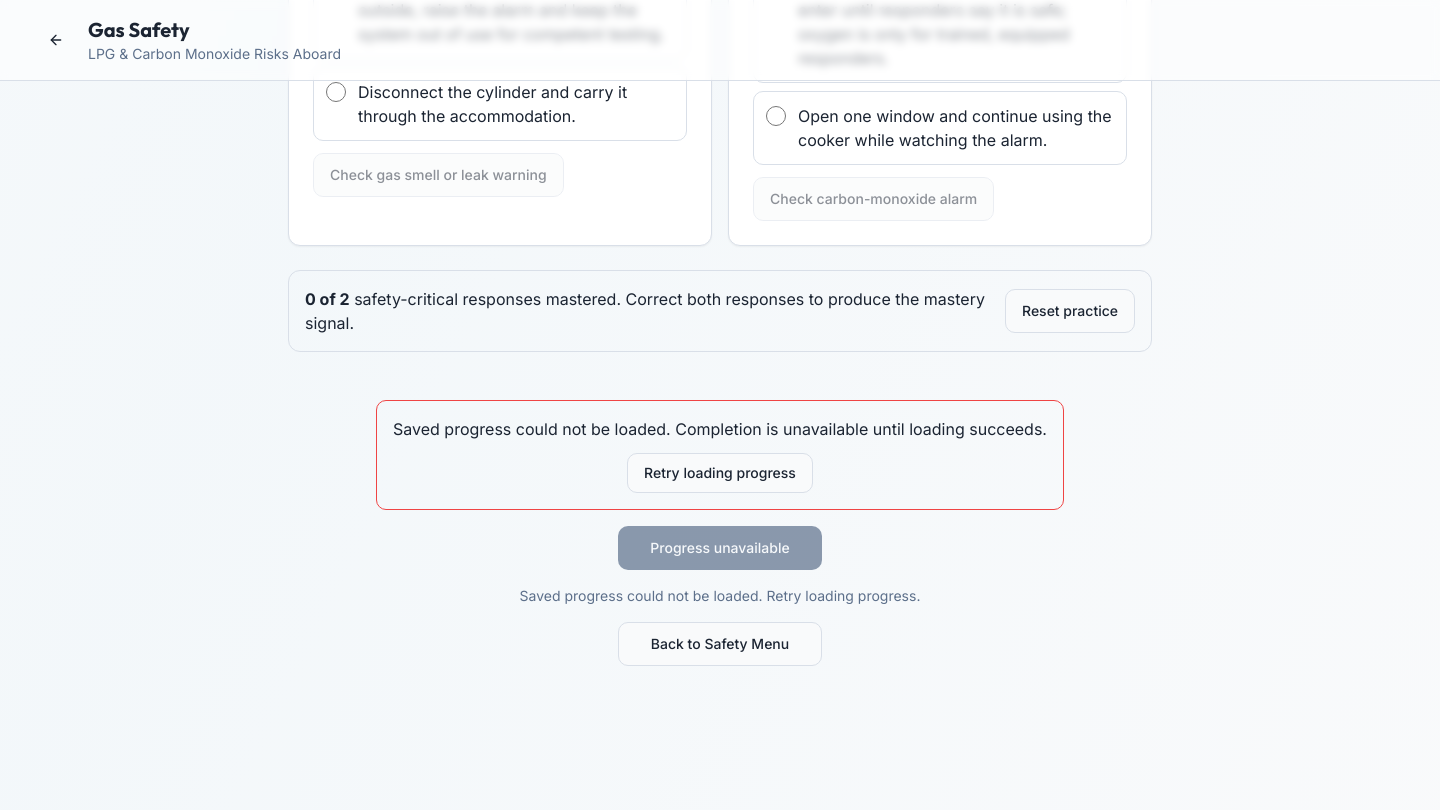
GasSafetyTheory › blocks on load failure and retries hydration
(page scrolled)
Expected: the 2nd message shows "could not be loaded", [393,419,1047,439]
Click the button "Retry loading progress" at (720,473), box [627,453,813,493]
(page scrolled)
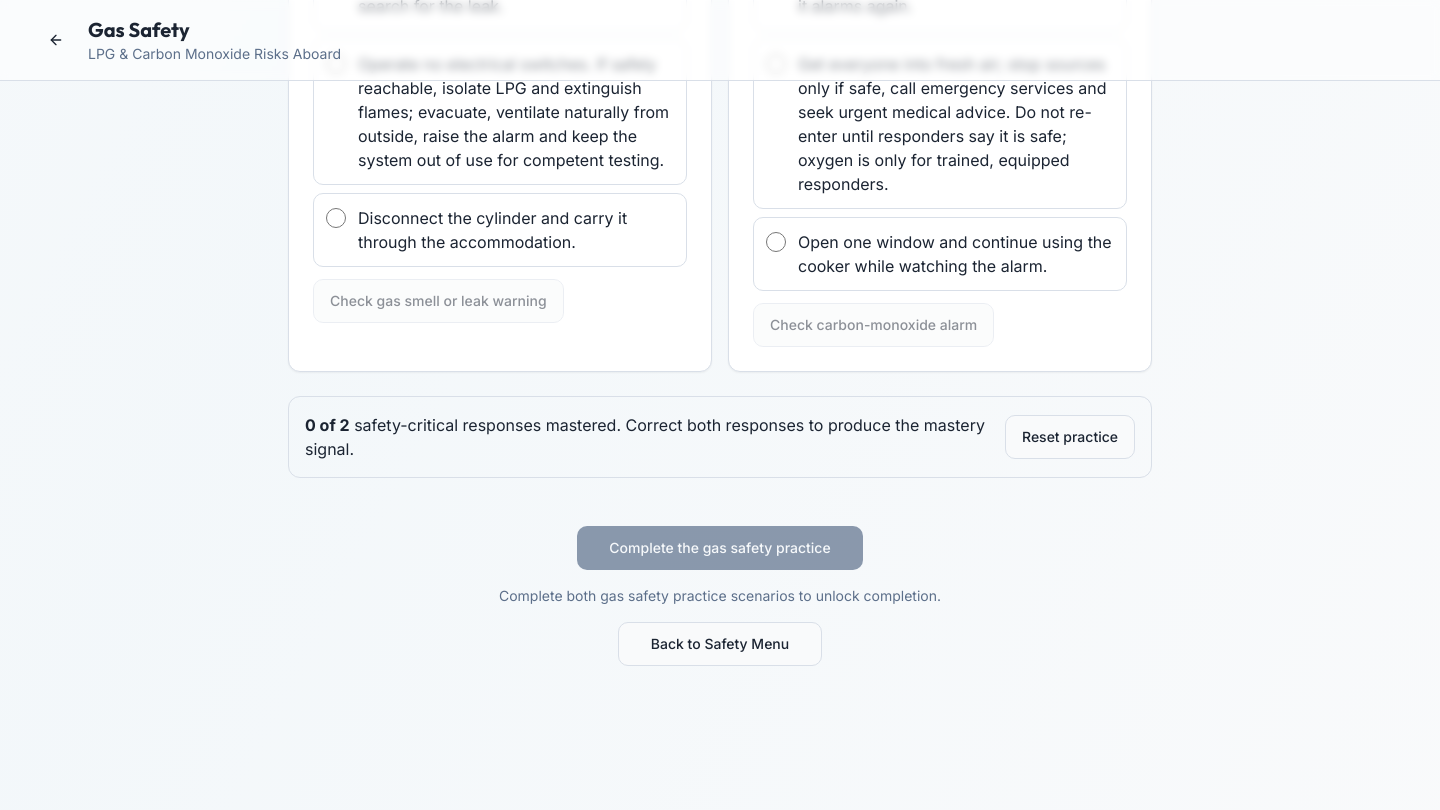
Expected: the button "Complete the gas safety practice" is shown, [577,526,863,570]
